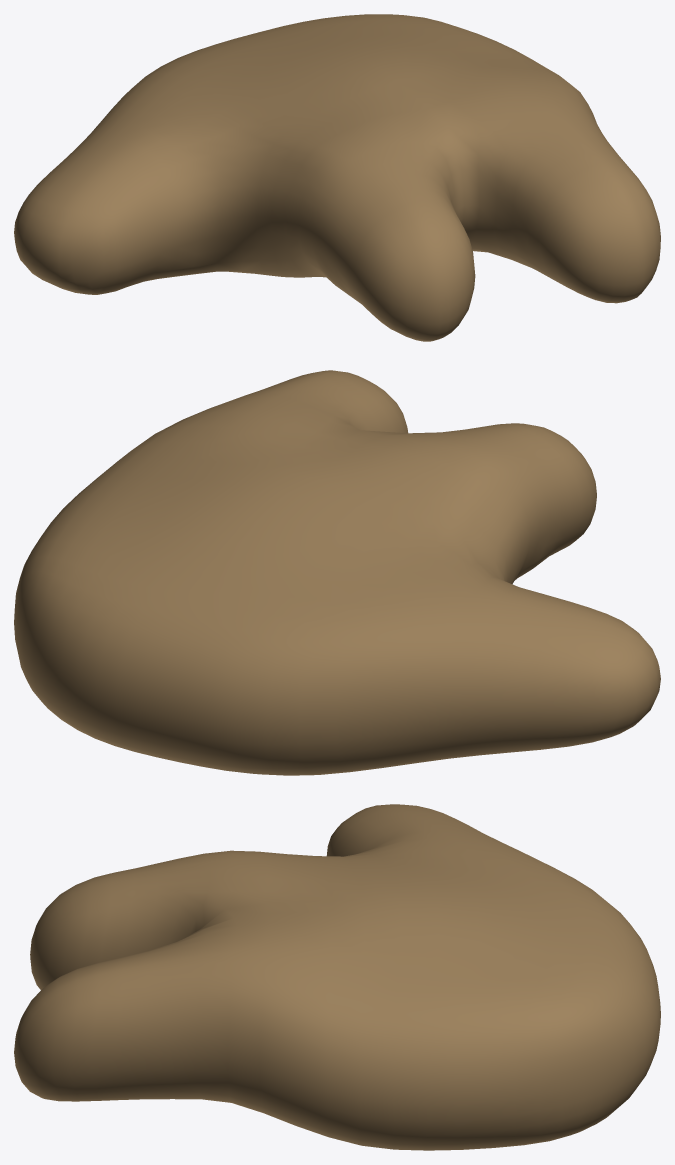
Rendered from left-hand.fbx.
3 renders of one model, top to bottom at view 1: azimuth 30°, elevation 25°; view 2: azimuth 150°, elevation 25°; view 3: azimuth 270°, elevation 25°, orthographic. The views are drawn at different scales.
Parts seen in each view (by area): view 1: Left Hand; view 2: Left Hand; view 3: Left Hand.
Part boxes in pixels (left/top/right/bottom): Left Hand: left=14, top=14, right=660, bottom=341; Left Hand: left=14, top=370, right=660, bottom=775; Left Hand: left=14, top=804, right=660, bottom=1150.
Bounding box in the file's own units: 15.99 × 5.25 × 15.84.
